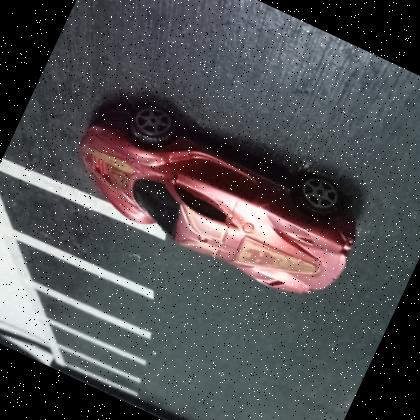Car: (78, 102, 358, 294)
